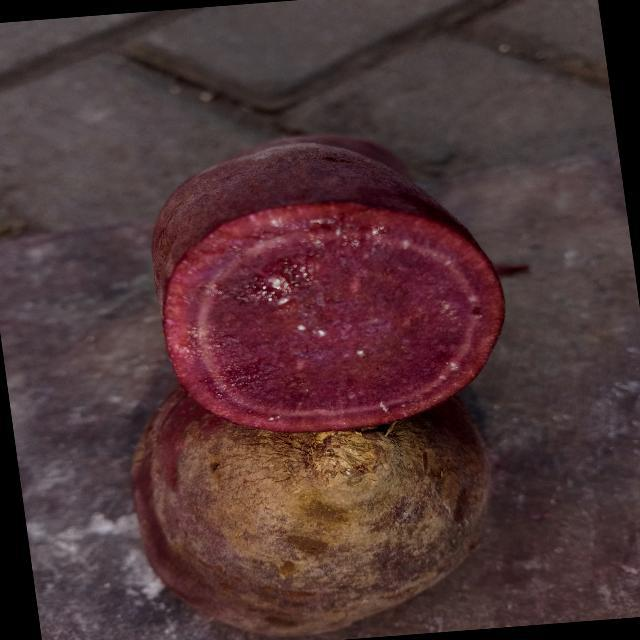Healthy Sweet Potato: (163, 204, 503, 431)
